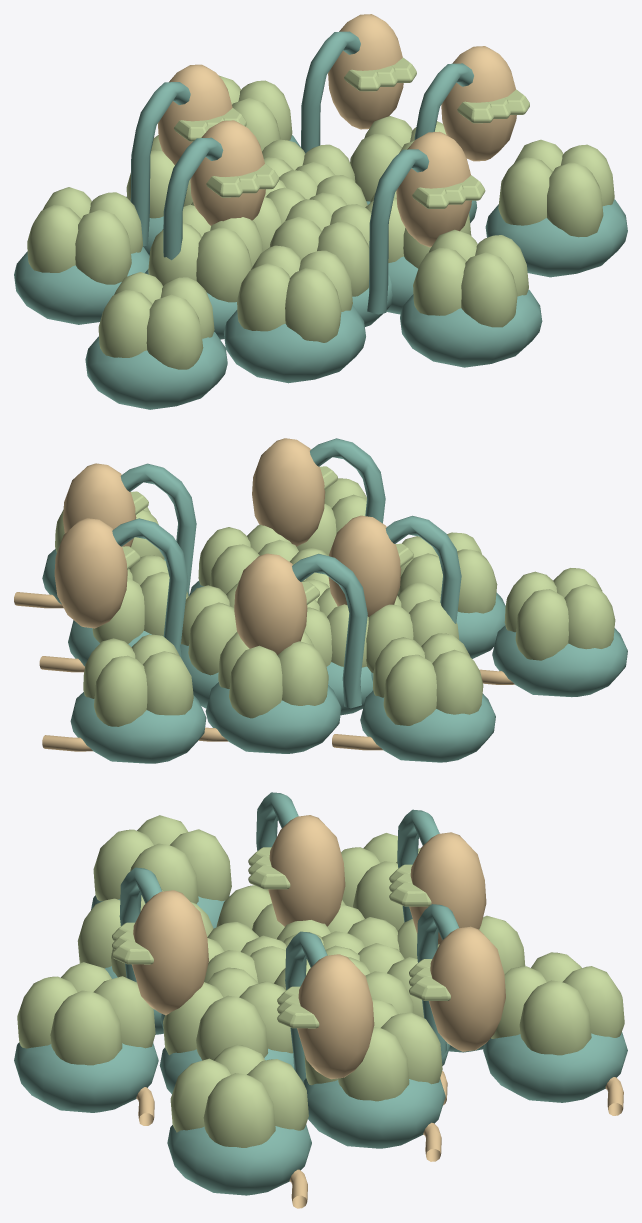
File: bio_oxygen_reef_23_far.glb
3 views of the same model, one above another, from view 1: azimuth 30°, elevation 25°; view 2: azimuth 150°, elevation 25°; view 3: azimuth 270°, elevation 25° (orthographic). The views are drawn at different scales.
Visible parts, largest first — view 1: Lobed gas sac.036, Lobed gas sac.052, Lobed gas sac.028, Lobed gas sac.040, Lobed gas sac.048, Lobed gas sac.016, Photosynthetic cushion.007, Photosynthetic cushion.012, Photosynthetic cushion.010, Photosynthetic cushion.013, Lobed gas sac.008, Pendant spore capsule.003 (+25 smaller); view 2: Lobed gas sac.048, Lobed gas sac.036, Lobed gas sac.044, Lobed gas sac.024, Pendant spore capsule.003, Pendant spore capsule.002, Pendant spore capsule.001, Photosynthetic cushion.011, Photosynthetic cushion.009, Photosynthetic cushion.012, Photosynthetic cushion.006, Pendant spore capsule.004 (+23 smaller); view 3: Lobed gas sac.052, Lobed gas sac.040, Lobed gas sac.044, Lobed gas sac.020, Lobed gas sac.048, Pendant spore capsule, Pendant spore capsule.003, Pendant spore capsule.002, Photosynthetic cushion.013, Photosynthetic cushion.010, Photosynthetic cushion.011, Photosynthetic cushion.008 (+26 smaller).
Part boxes in pixels (box(x1,y1,x2,y2)): Lobed gas sac.036: box(27, 187, 142, 284); Lobed gas sac.052: box(498, 139, 614, 237); Lobed gas sac.028: box(237, 245, 352, 342); Lobed gas sac.040: box(413, 229, 528, 327); Lobed gas sac.048: box(98, 272, 214, 369); Lobed gas sac.016: box(148, 204, 262, 302); Photosynthetic cushion.007: box(224, 305, 365, 383); Photosynthetic cushion.012: box(85, 332, 227, 409); Photosynthetic cushion.010: box(400, 289, 542, 367); Photosynthetic cushion.013: box(485, 199, 627, 277); Lobed gas sac.008: box(270, 199, 371, 296); Pendant spore capsule.003: box(328, 14, 403, 129); Lobed gas sac.048: box(504, 568, 615, 660); Lobed gas sac.036: box(372, 633, 483, 725); Lobed gas sac.044: box(83, 634, 193, 726); Lobed gas sac.024: box(218, 630, 328, 718); Pendant spore capsule.003: box(54, 518, 127, 628); Pendant spore capsule.002: box(252, 438, 325, 546); Pendant spore capsule.001: box(234, 553, 307, 654); Photosynthetic cushion.011: box(70, 692, 206, 763); Photosynthetic cushion.009: box(360, 691, 495, 762); Photosynthetic cushion.012: box(492, 625, 627, 697); Photosynthetic cushion.006: box(205, 682, 341, 753); Pendant spore capsule.004: box(328, 515, 401, 616); Lobed gas sac.052: box(170, 1044, 308, 1147); Lobed gas sac.040: box(17, 962, 155, 1065); Lobed gas sac.044: box(491, 952, 624, 1055); Lobed gas sac.020: box(163, 967, 293, 1060); Lobed gas sac.048: box(93, 815, 231, 903); Pendant spore capsule: box(297, 954, 374, 1079); Pendant spore capsule.003: box(429, 926, 505, 1051); Pendant spore capsule.002: box(131, 890, 208, 1015); Photosynthetic cushion.013: box(167, 1124, 311, 1195); Photosynthetic cushion.010: box(14, 1042, 158, 1112); Photosynthetic cushion.011: box(483, 1032, 627, 1102); Photosynthetic cushion.008: box(303, 1078, 445, 1148).
Size of the model in its own units: 2.35 by 0.7758 by 2.03.
